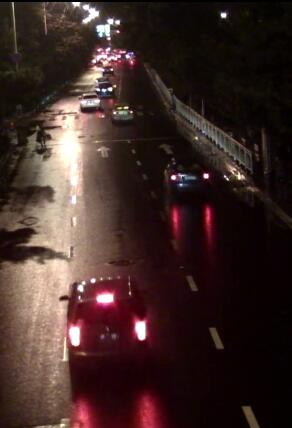car: (58, 274, 151, 374), (163, 152, 215, 193), (108, 103, 134, 120), (77, 92, 98, 111), (95, 81, 111, 98), (100, 65, 113, 75)
